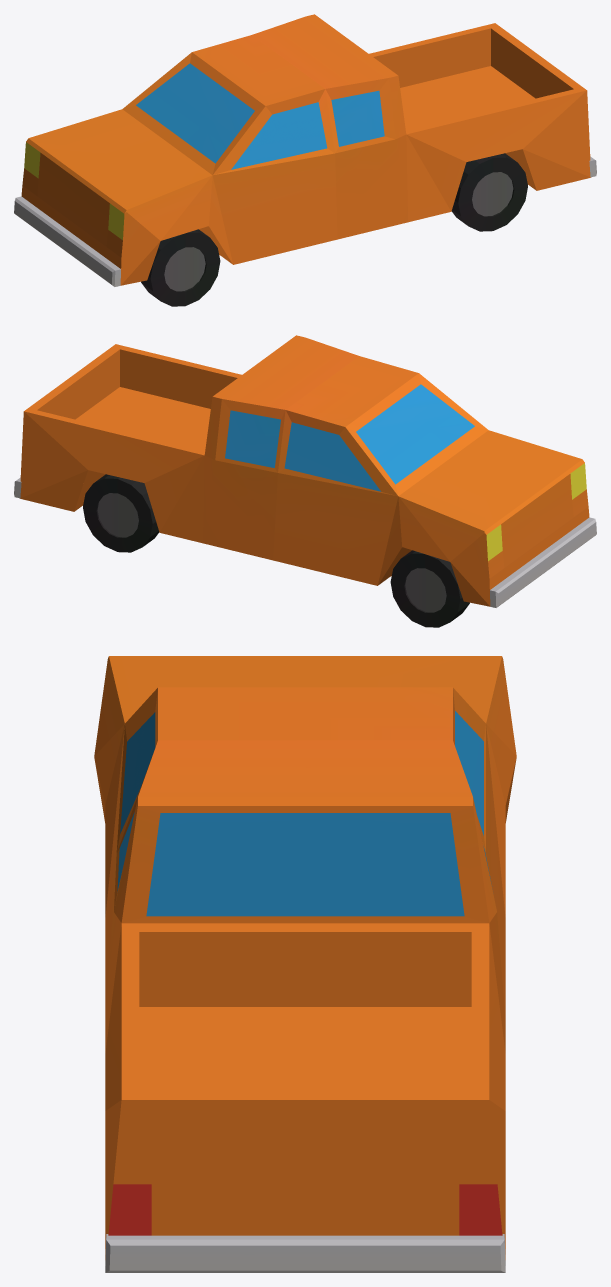
The model's file is PickUpTruck.fbx.
3 views of the same model, one above another, from view 1: azimuth 30°, elevation 25°; view 2: azimuth 150°, elevation 25°; view 3: azimuth 270°, elevation 25° (orthographic). The views are drawn at different scales.
Visible parts, largest first — view 1: PickUpTruckBodyColor, PickUpTruckBody, PickUpTruckTires; view 2: PickUpTruckBodyColor, PickUpTruckBody, PickUpTruckTires; view 3: PickUpTruckBodyColor, PickUpTruckBody.
Part boxes in pixels (left/top/right/bottom): PickUpTruckBodyColor: left=21, top=14, right=590, bottom=285; PickUpTruckBody: left=14, top=63, right=596, bottom=286; PickUpTruckTires: left=141, top=153, right=527, bottom=306; PickUpTruckBodyColor: left=20, top=335, right=589, bottom=606; PickUpTruckBody: left=14, top=384, right=596, bottom=607; PickUpTruckTires: left=83, top=474, right=469, bottom=627; PickUpTruckBodyColor: left=94, top=656, right=516, bottom=1259; PickUpTruckBody: left=105, top=711, right=505, bottom=1272.
Size of the model in its own units: 331 by 111 by 125.
